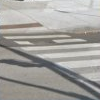crosswalk: (3, 34, 100, 80)
